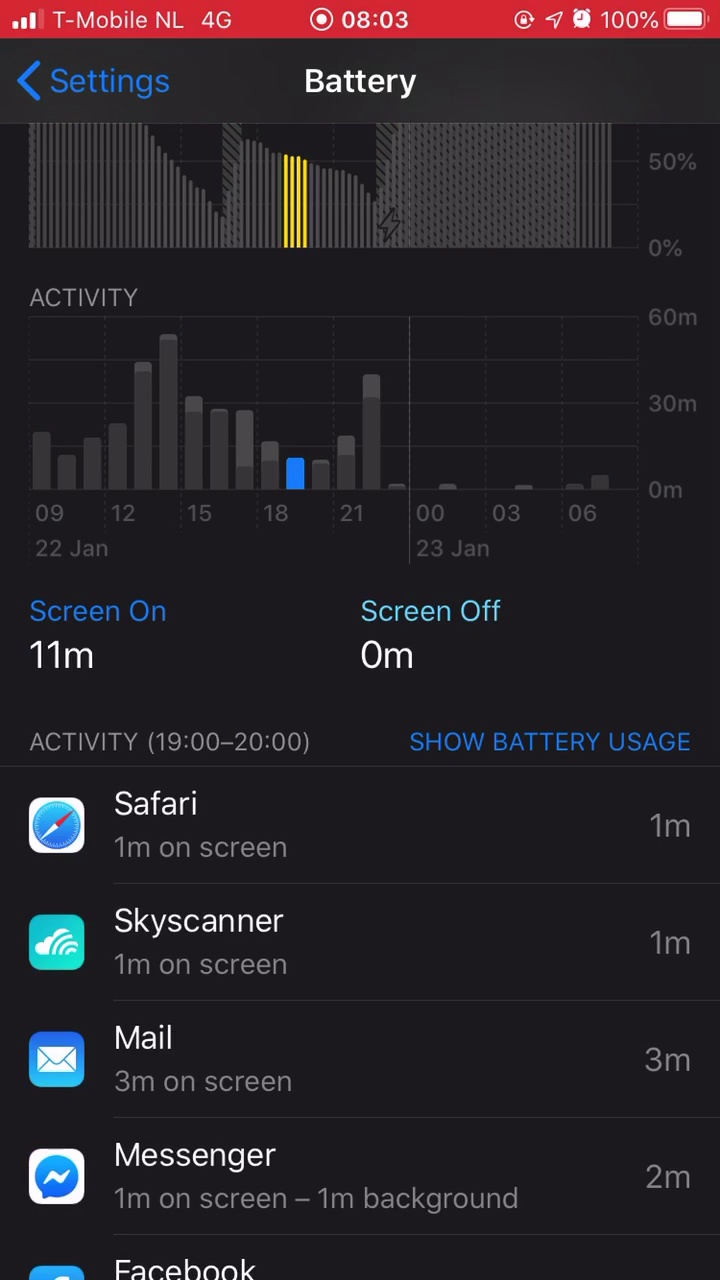activity: (17, 703, 345, 772)
app: (20, 778, 707, 874), (23, 891, 710, 987), (18, 1014, 705, 1110), (22, 1139, 709, 1235)
